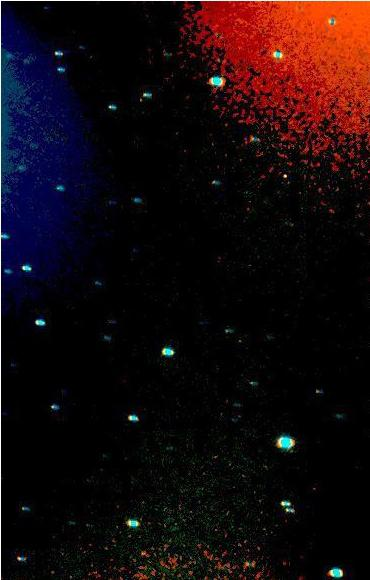star: (269, 162, 299, 192)
